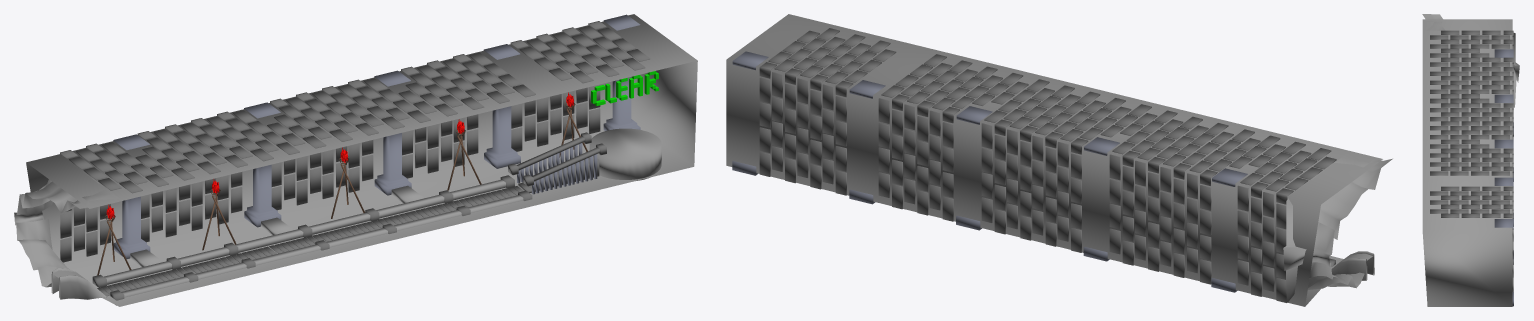
Rendered from ステージ２.fbx.
3 views of the same model, side by side, from view 1: azimuth 30°, elevation 25°; view 2: azimuth 150°, elevation 25°; view 3: azimuth 270°, elevation 25° (orthographic). The views are drawn at different scales.
Parts seen in each view (by area): view 1: 立方体.004; view 2: 立方体.004; view 3: 立方体.004.
Part boxes in pixels (x1,y1,x2,y2): 立方体.004: (14,14,697,306); 立方体.004: (726,14,1392,306); 立方体.004: (1422,14,1519,306).
Size of the model in its own units: 26077 by 4699 by 5038.
